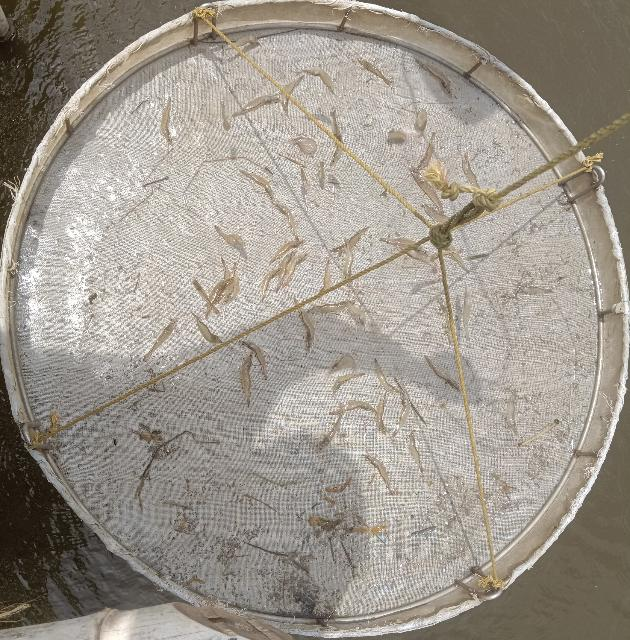shrimp: (411, 165, 445, 216), (143, 318, 177, 362), (313, 407, 345, 453), (363, 453, 394, 496), (424, 355, 461, 391), (417, 61, 453, 97), (204, 277, 234, 320), (240, 170, 275, 205), (239, 340, 268, 380), (214, 225, 247, 259), (329, 226, 369, 254), (232, 95, 281, 117), (281, 252, 310, 289), (191, 313, 224, 344), (374, 358, 402, 394), (281, 74, 304, 117), (272, 200, 297, 239), (268, 239, 307, 264), (192, 278, 219, 314), (276, 249, 298, 293), (358, 58, 392, 85), (301, 67, 335, 94), (330, 109, 344, 170), (298, 308, 315, 355), (332, 372, 365, 396), (240, 350, 254, 406), (261, 266, 281, 304), (222, 261, 239, 305), (329, 400, 377, 415), (409, 429, 425, 474), (462, 152, 481, 189), (341, 301, 367, 328), (417, 131, 435, 170), (160, 97, 174, 146), (422, 201, 451, 224), (286, 135, 317, 156), (329, 354, 360, 374), (374, 390, 387, 436), (309, 301, 352, 314), (225, 35, 260, 50), (343, 237, 354, 280), (214, 279, 232, 304), (321, 258, 331, 292), (220, 101, 231, 131), (415, 110, 427, 136), (388, 129, 407, 142), (318, 161, 325, 189), (300, 168, 309, 189)
